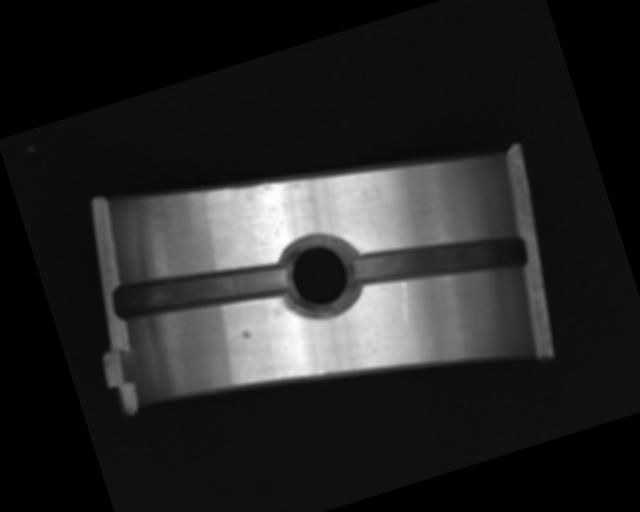bruise: (240, 328, 252, 339)
gap: (348, 206, 530, 315), (109, 237, 292, 341)
hole: (272, 224, 370, 327)
nick: (391, 280, 418, 326)
